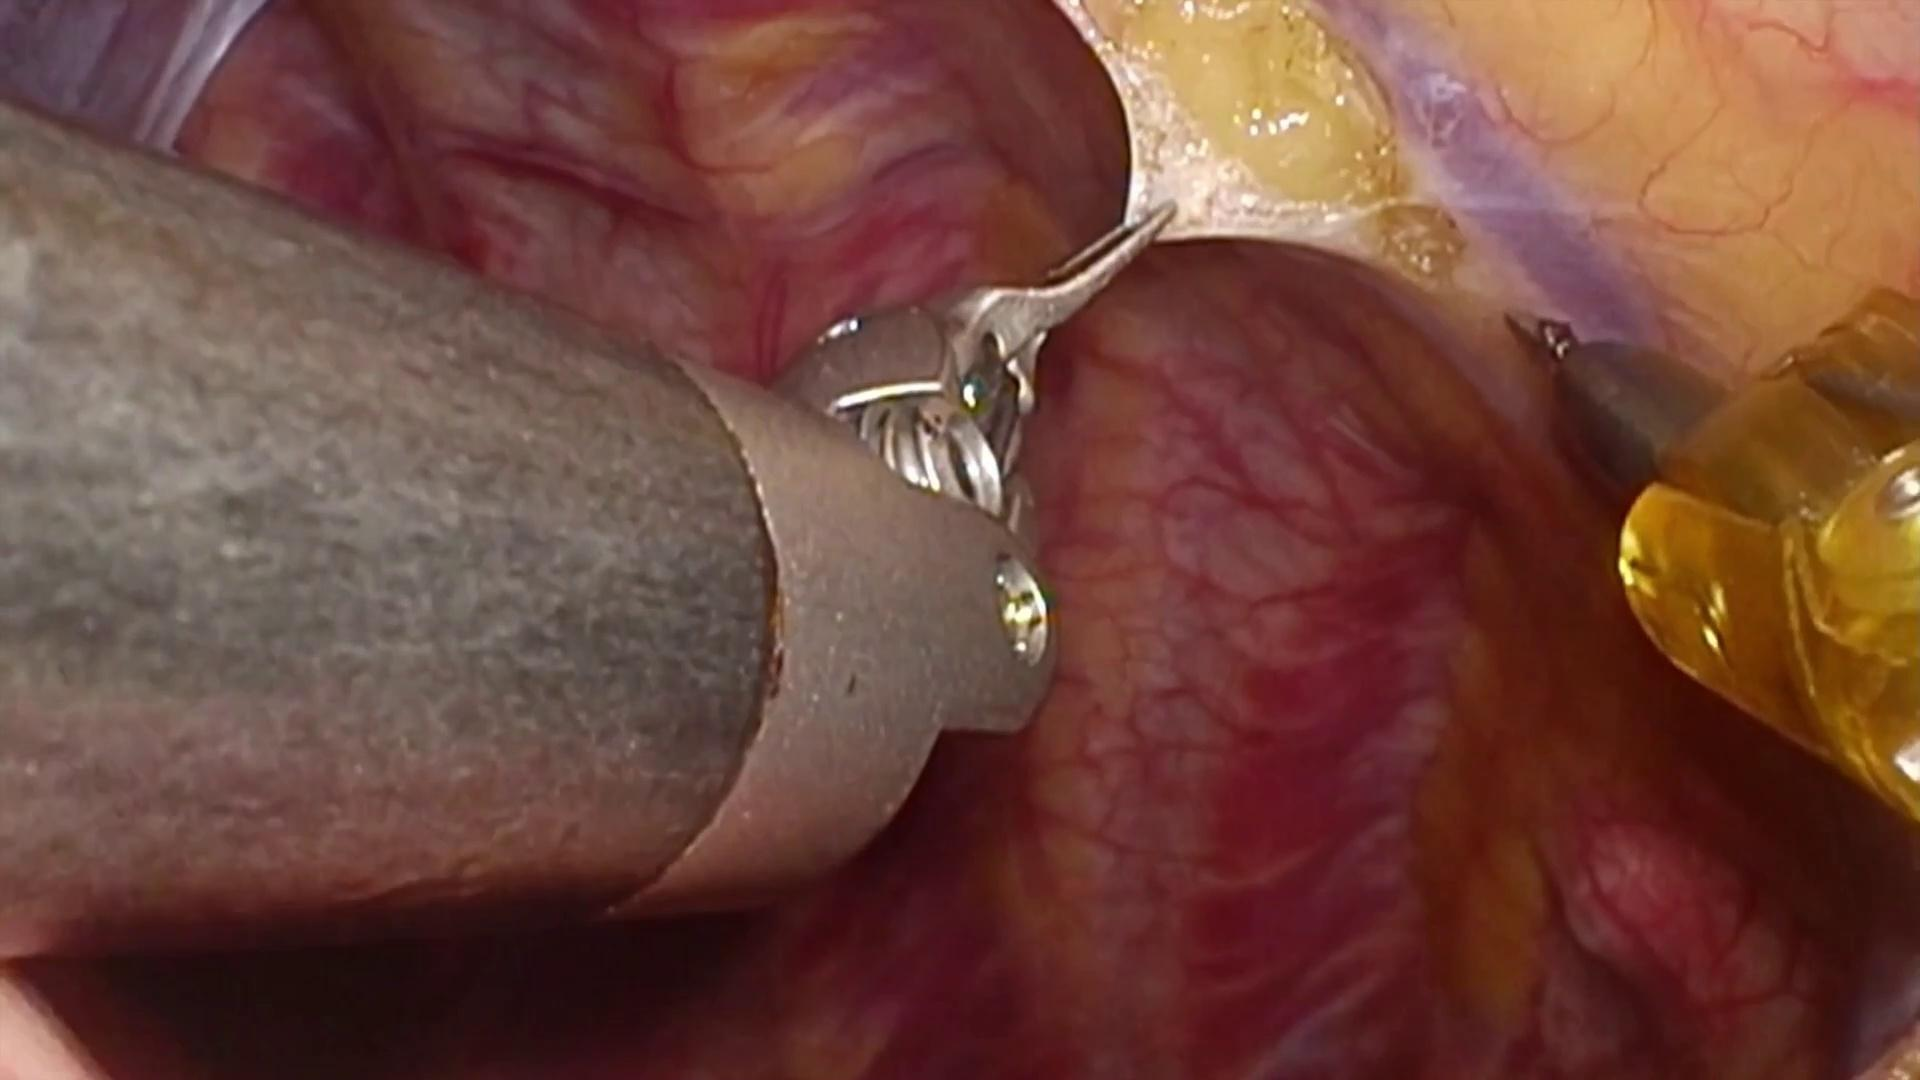Cautery_Spatula: (1491, 297, 1741, 489), (1491, 295, 1596, 380)
Debakey: (930, 193, 1180, 419)
